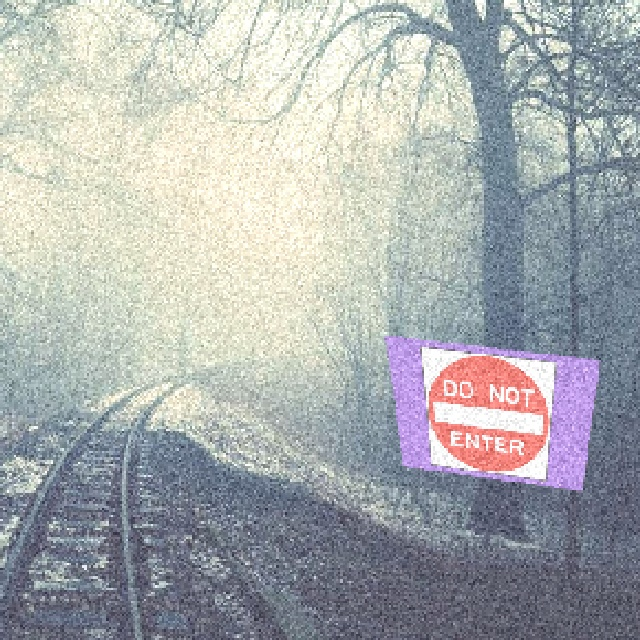DO_NOT_ENTER: (409, 345, 555, 480)
